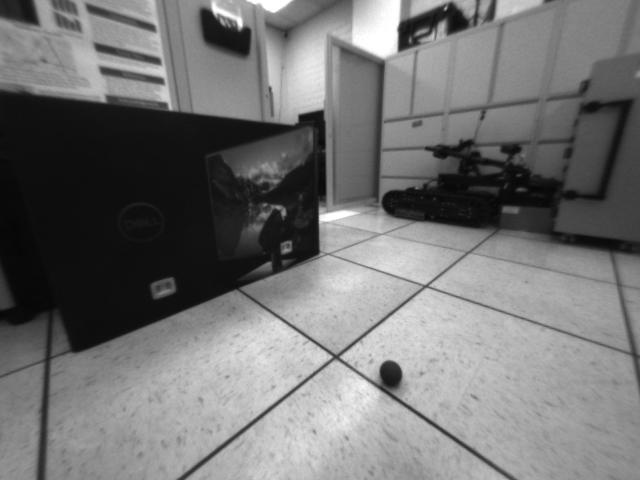dogtoy: (374, 354, 409, 393)
